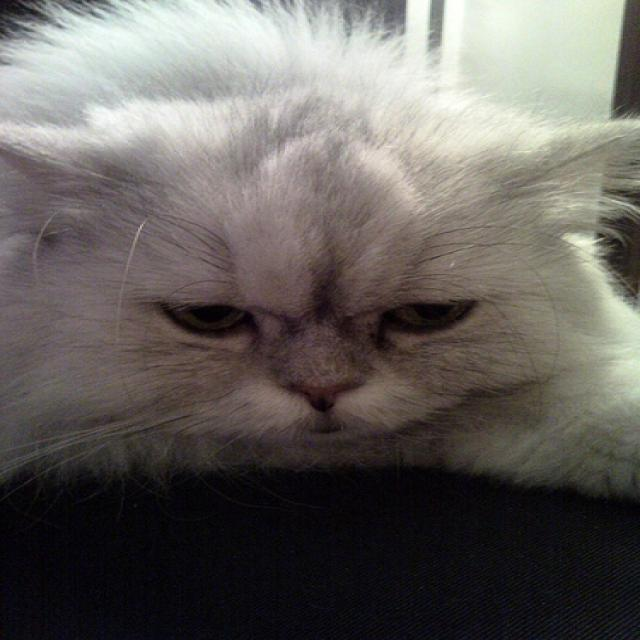Persian: (0, 101, 638, 440)
